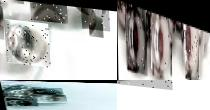ironball: (4, 18, 49, 66), (125, 2, 147, 73), (150, 9, 171, 74), (182, 18, 200, 77), (30, 1, 67, 22), (81, 5, 109, 28), (142, 6, 156, 32), (30, 86, 63, 96), (31, 94, 66, 103), (4, 97, 37, 106), (2, 88, 33, 96)
